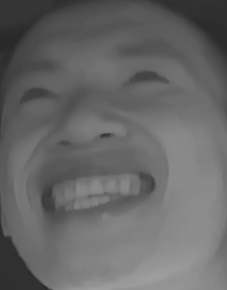eye: (118, 64, 174, 92), (16, 78, 68, 107)
mouth: (21, 162, 155, 220)
